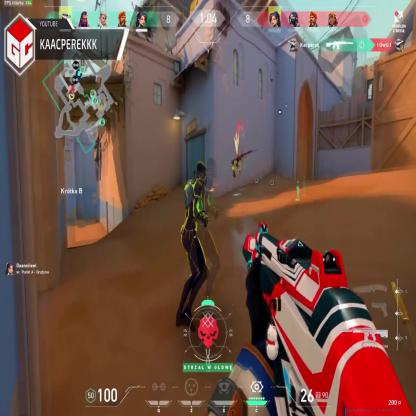enemy: (176, 156, 210, 330)
enemy_head: (195, 160, 207, 186)
